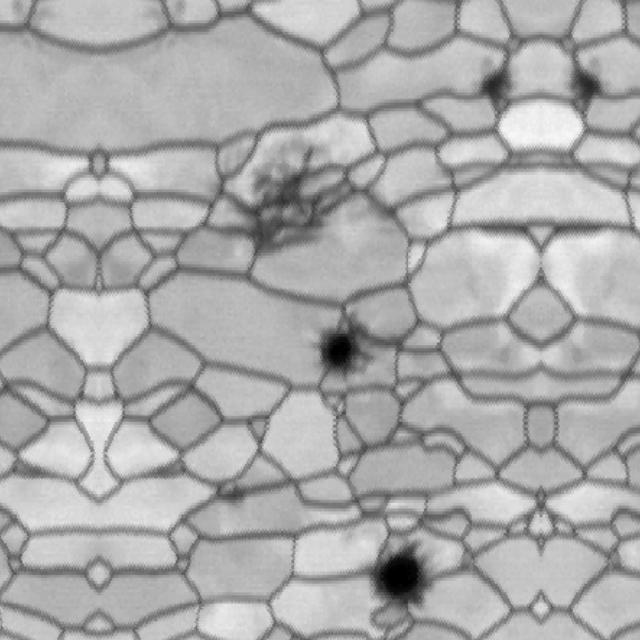good_void: (230, 135, 368, 265), (351, 531, 443, 614), (472, 45, 520, 129), (560, 45, 608, 129), (308, 325, 368, 379), (195, 473, 262, 516)
